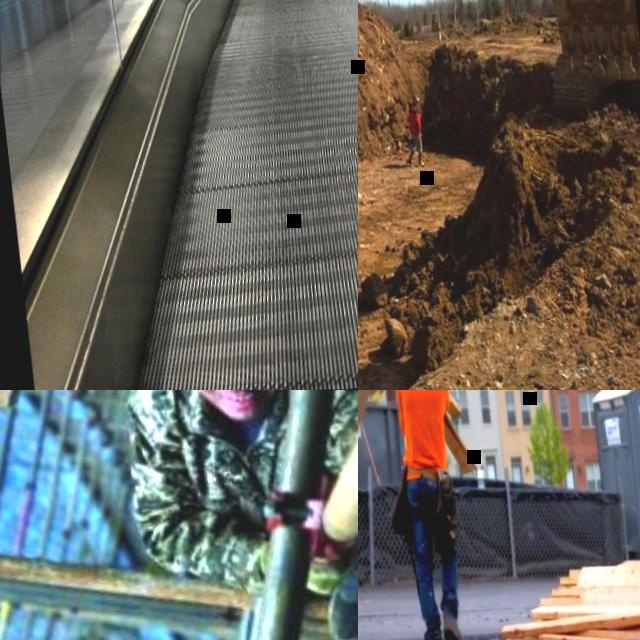Hardhat: (412, 95, 419, 101)
NO-Mask: (184, 390, 294, 424)
NO-Safety Vest: (148, 390, 358, 569), (392, 390, 456, 478), (406, 107, 421, 137)
Person: (98, 390, 358, 640), (381, 390, 482, 640), (398, 93, 427, 168)
machinery: (525, 0, 640, 112)
